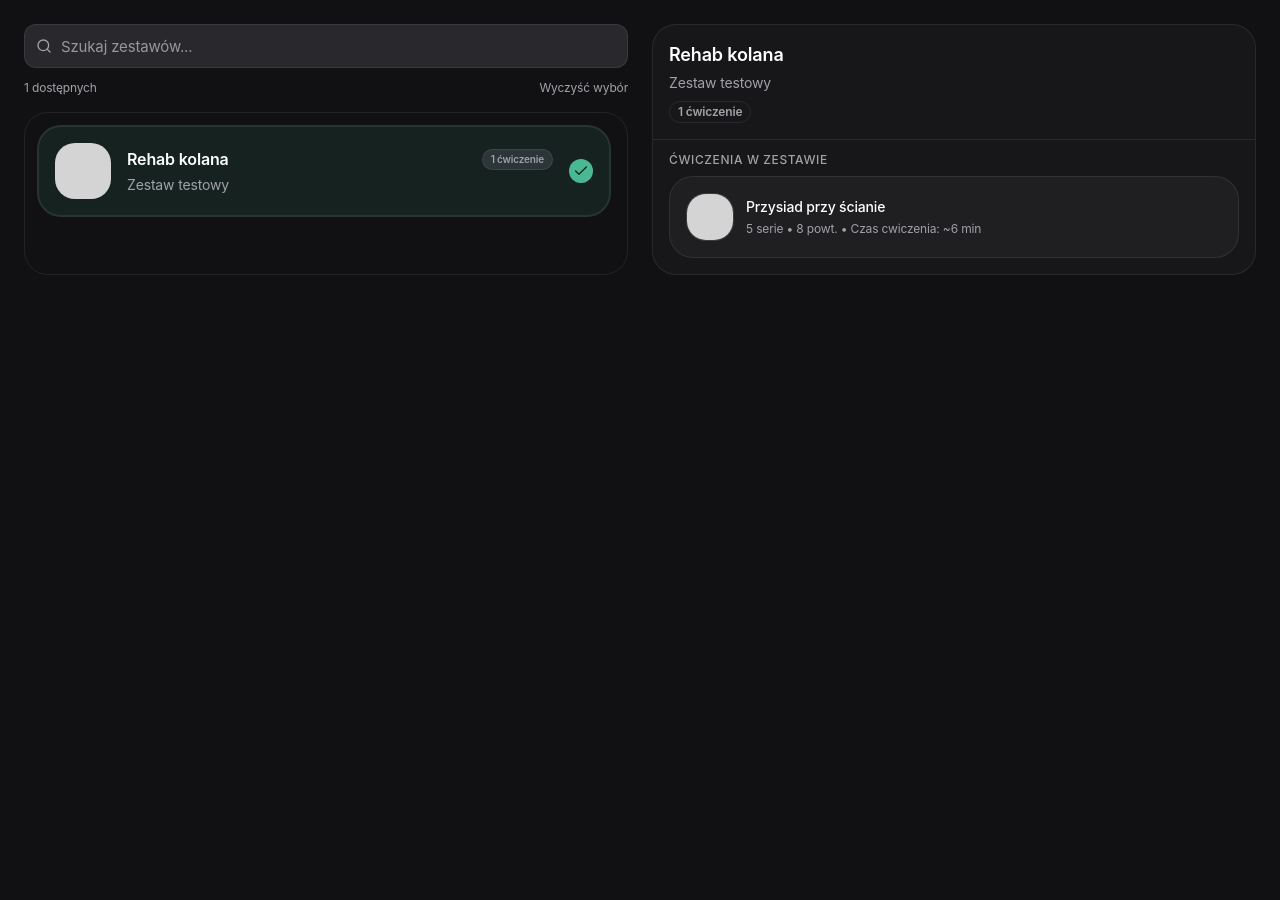
Test: SelectSetStep details flow › opens and closes exercise details dialog from preview list
What coordinates should you click on to do the following:
click the element with test id "assign-set-preview-exercise-row-mapping-1"
I would click on:
 (954, 217)
Its box is [669,176,1239,258].
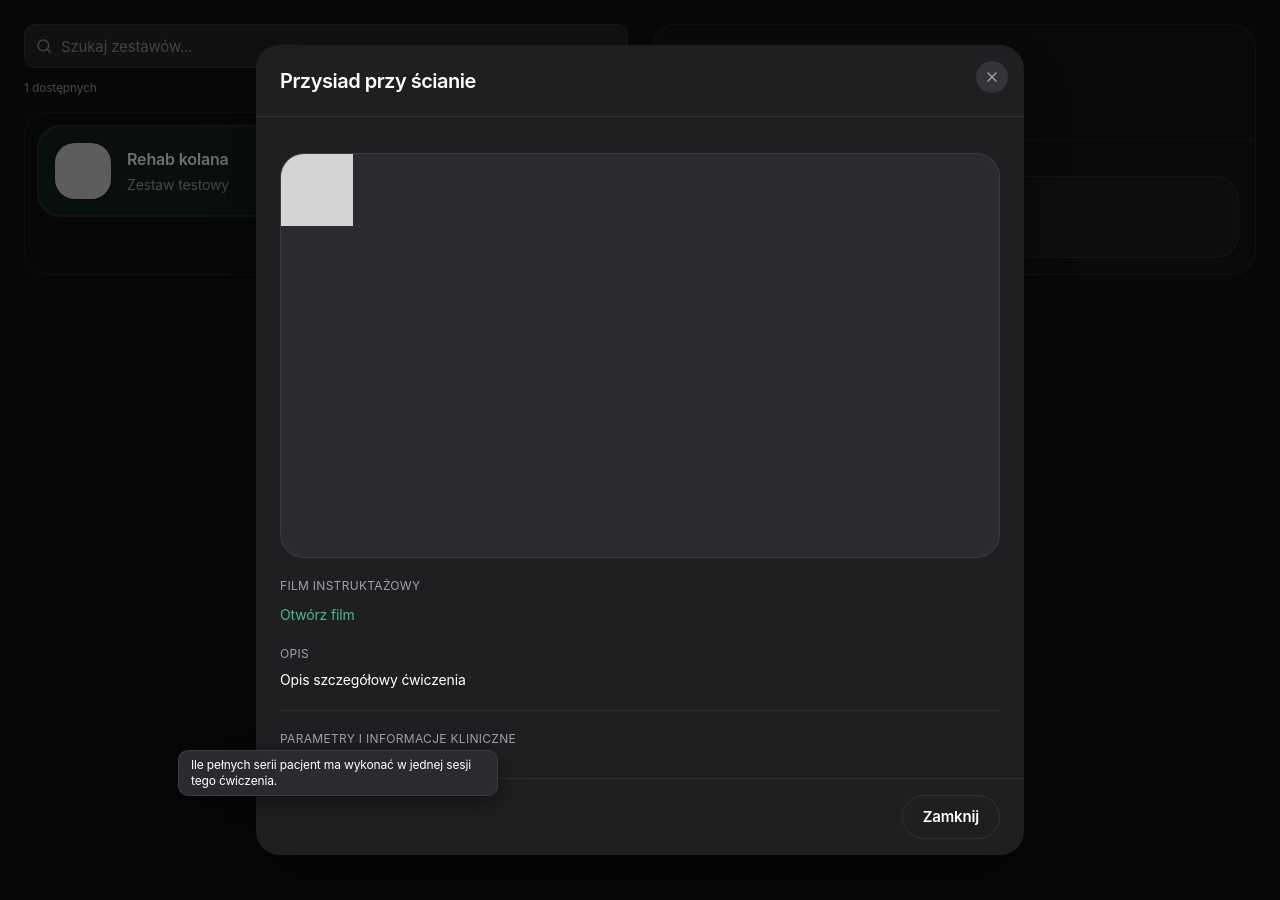
Check: the dialog with test id "assign-set-preview-exercise-details-dialog" is shown, box [256,45,1024,855]
Check: the heading with test id "assign-set-preview-exercise-details-title" reads "Przysiad przy ścianie", box [280,69,476,93]
What coordinates should you click on to do the following:
click the button with test id "assign-set-preview-exercise-details-close-btn"
I would click on:
 (951, 817)
Its box is [902,795,1000,839].
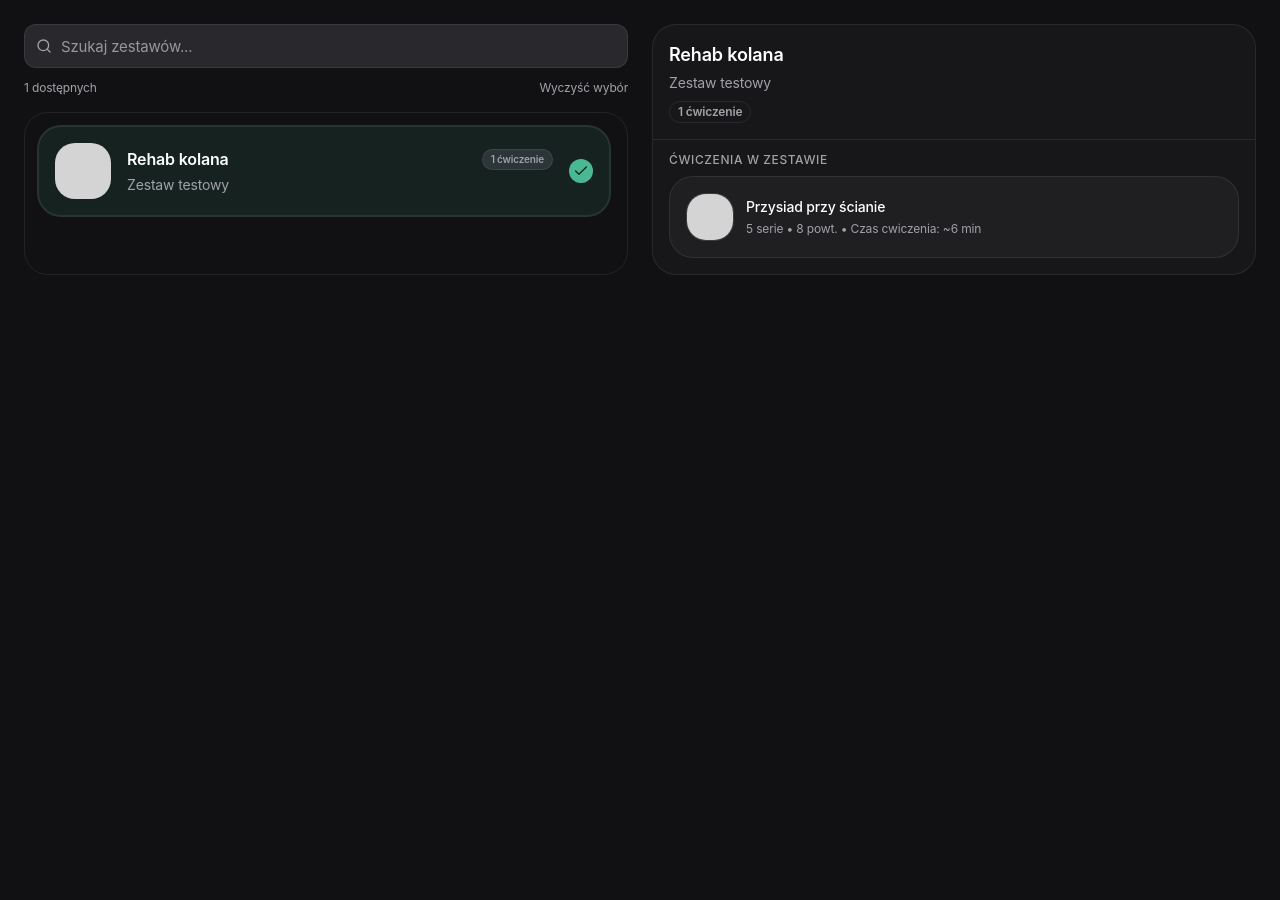
Check: the dialog with test id "assign-set-preview-exercise-details-dialog" is gone
